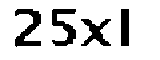2: (9, 7, 43, 52)
5: (47, 5, 80, 49)
I: (116, 5, 139, 51)
x: (80, 16, 112, 50)
